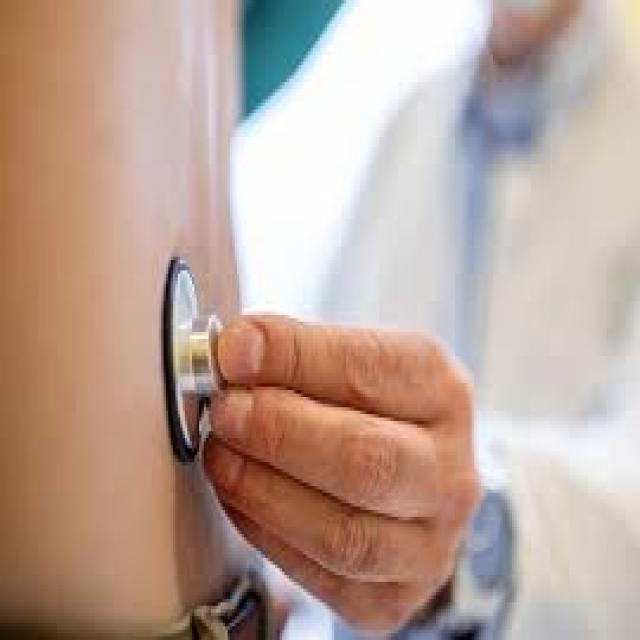stethoscope: (91, 251, 250, 486)
